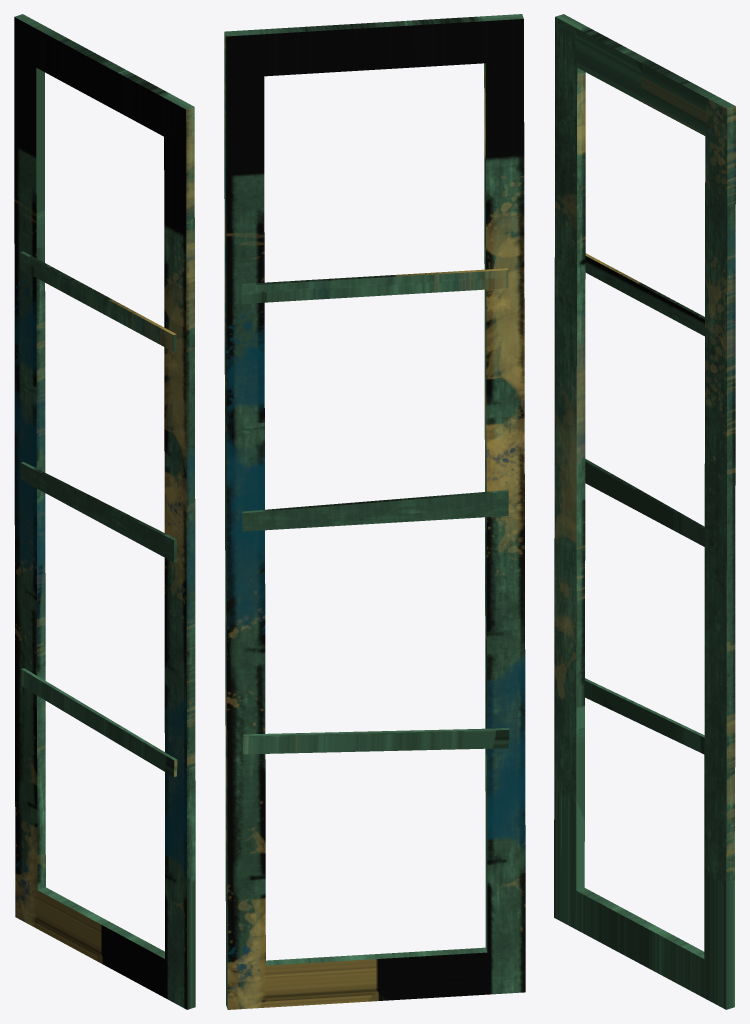
Rendered from rama okna2.obj.
3 views of the same model, side by side, from view 1: azimuth 90°, elevation 25°; view 2: azimuth 150°, elevation 25°; view 3: azimuth 270°, elevation 25° (orthographic). The views are drawn at different scales.
Visible parts, largest first — view 1: Cube.045_Cube.047; view 2: Cube.045_Cube.047; view 3: Cube.045_Cube.047.
Boxes of the visible parts, x1,y1,x2,y2 form: Cube.045_Cube.047: (14, 14, 195, 1009); Cube.045_Cube.047: (224, 14, 525, 1009); Cube.045_Cube.047: (554, 14, 735, 1009).
Size of the model in its own units: 0.2983 by 1.31 by 0.2386.
Materials: 1 (1 with a texture image).
